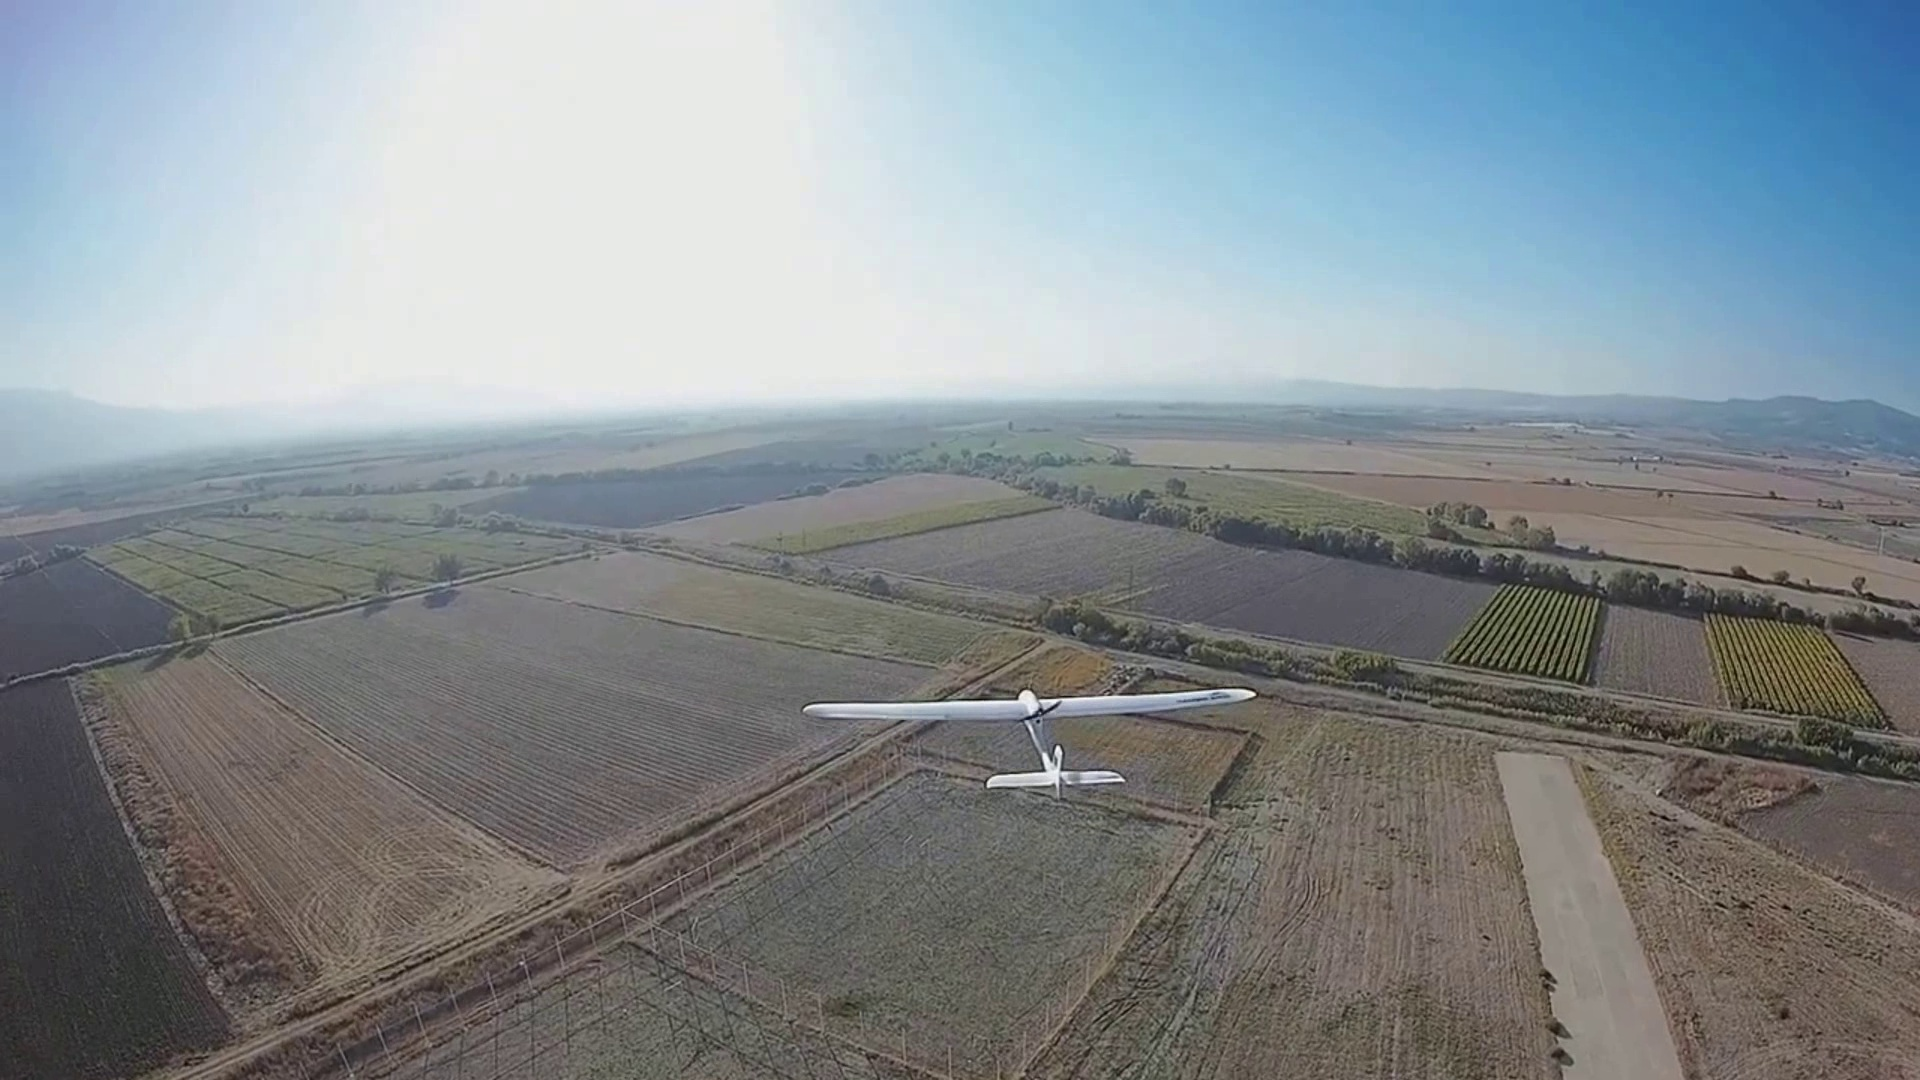airplane: (800, 680, 1262, 799)
